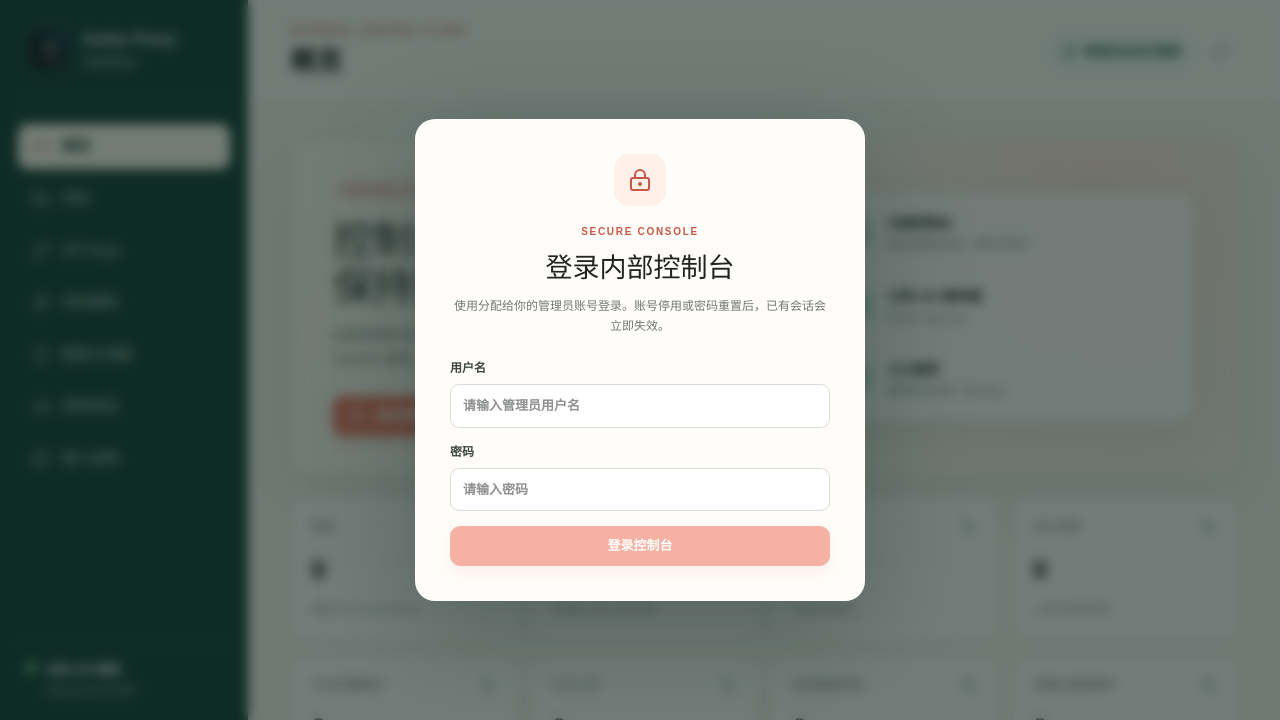
Test: 内部控制台 › 首次登录必须修改密码，并带 CSRF 完成修改
Expected: the heading "登录内部控制台" is shown, [546,253,734,283]
Type "owner" into the field labelled "用户名" at [640, 406], box [450,384,830,428]
Type "correct-password" into the password field labelled "密码" at [640, 489], box [450,468,830,511]
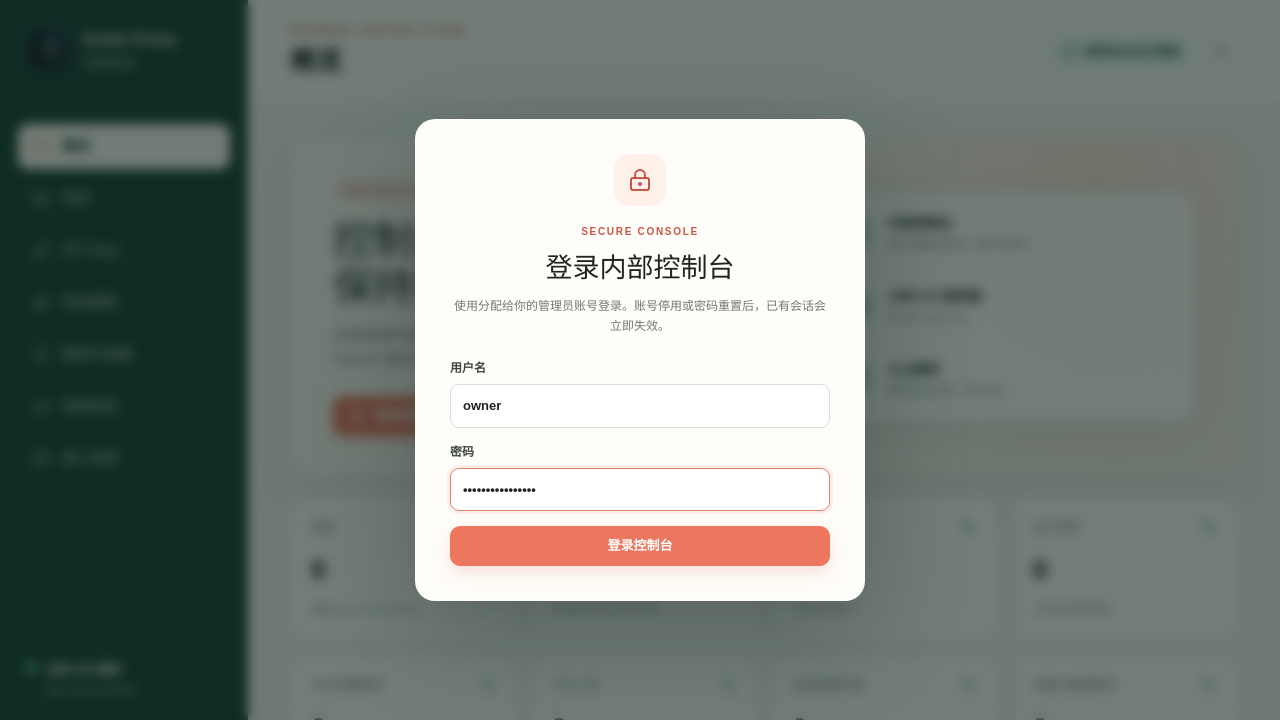
Click the button "登录控制台" at [640, 546], box [450,526,830,566]
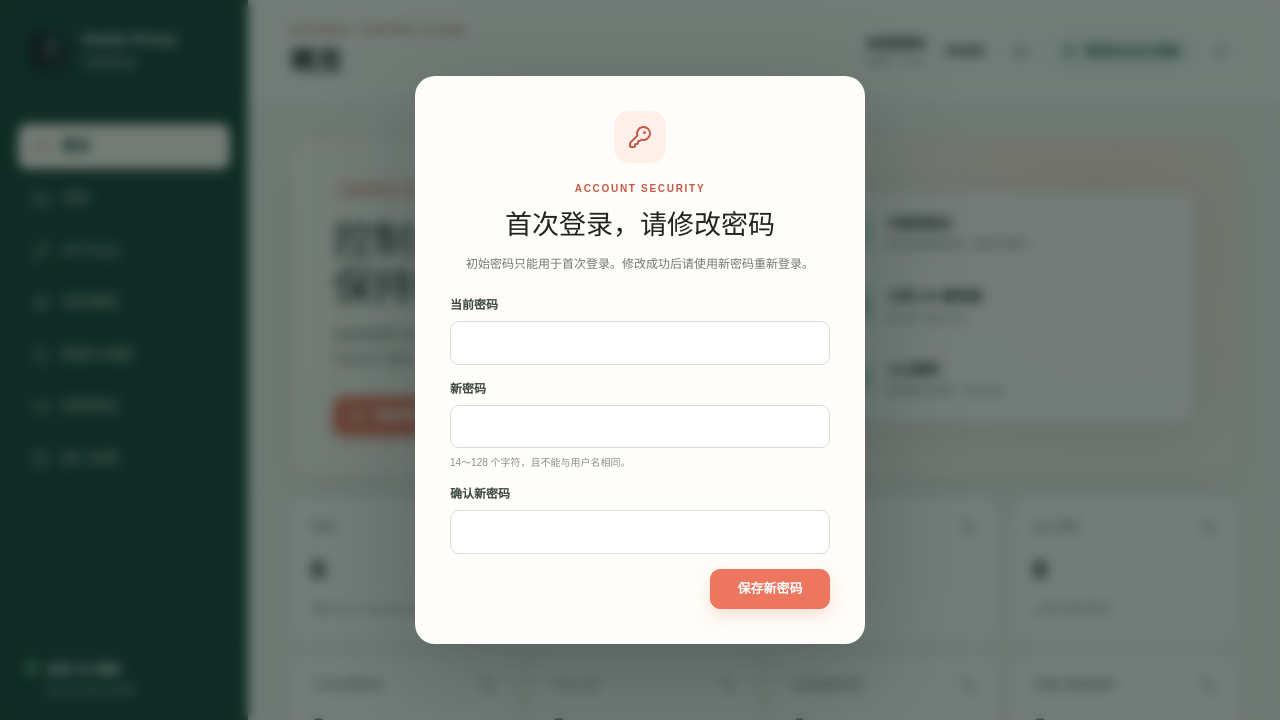
Expected: the heading "登录内部控制台" is gone
Expected: the heading "首次登录，请修改密码" is shown, [505,210,775,240]
Type "correct-password" into the password field labelled "当前密码" at [640, 343], box [450,321,830,365]
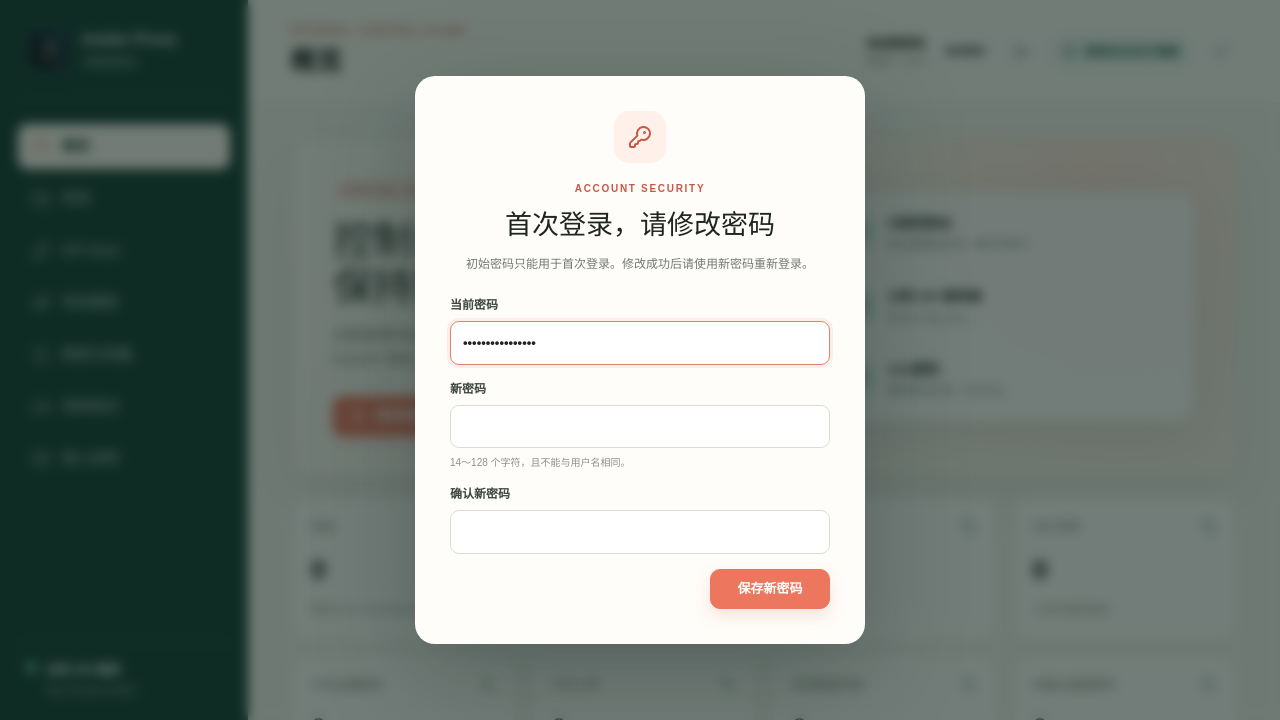
Type "New-password-123!" into the password field labelled "新密码 14～128 个字符，且不能与用户名相同。" at [640, 427], box [450,405,830,448]
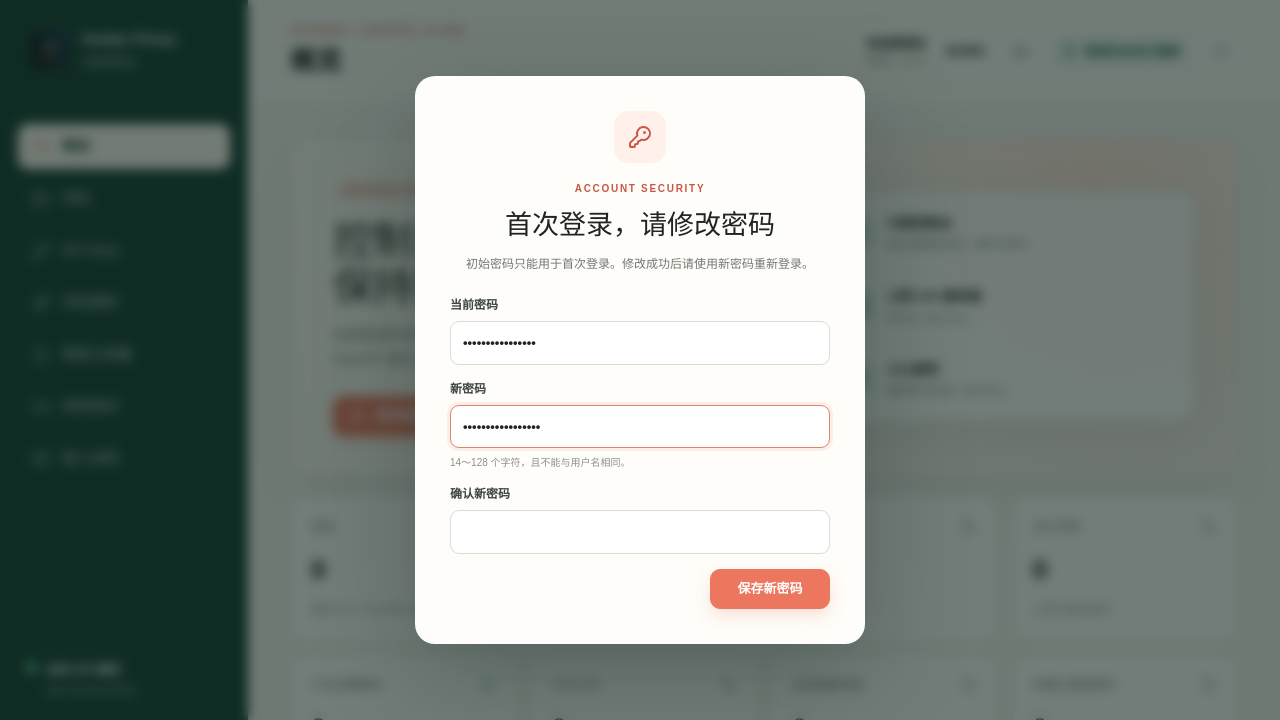
Type "New-password-123!" into the password field labelled "确认新密码" at [640, 532], box [450,510,830,554]
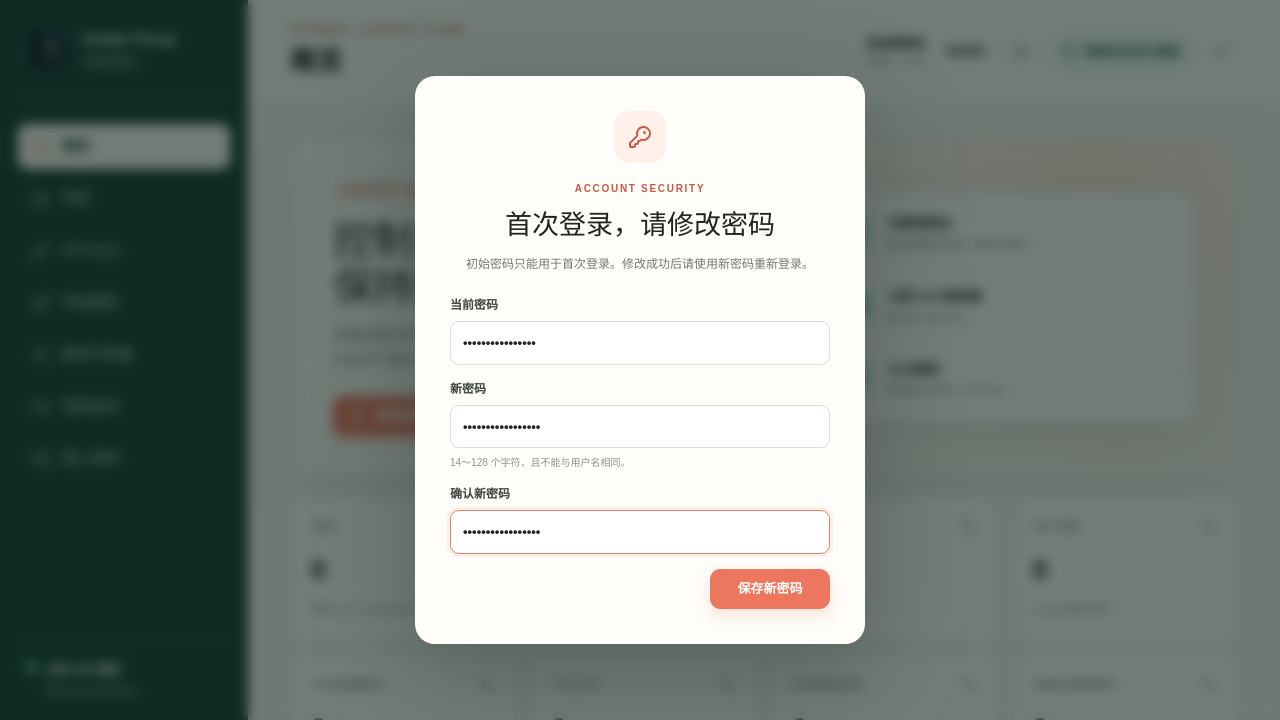
Click the button "保存新密码" at [770, 589], box [710,569,830,609]
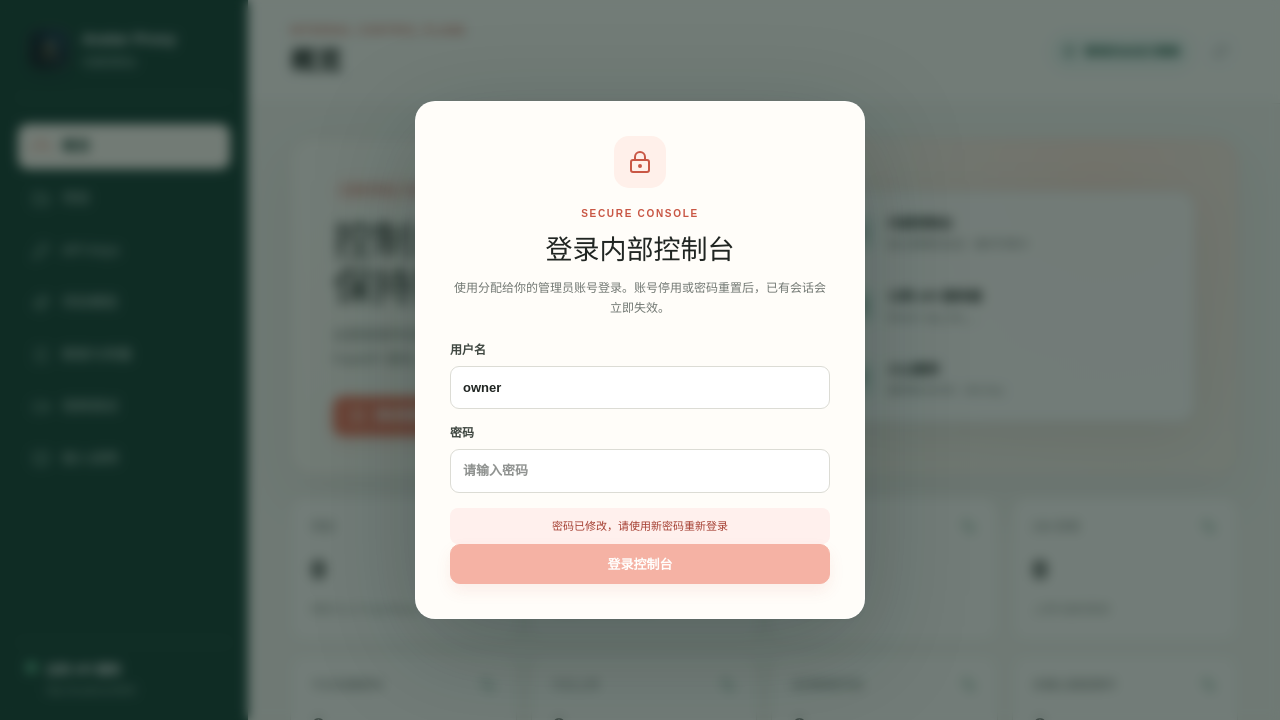
Expected: the heading "登录内部控制台" is shown, [546,235,734,265]
Expected: the message shows "密码已修改", [552,520,728,532]
